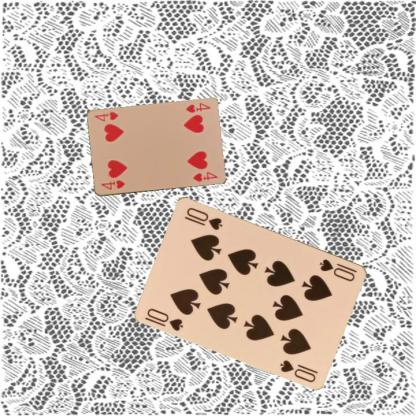10s: (144, 305, 185, 332), (316, 256, 358, 282)
4h: (182, 101, 212, 115), (98, 178, 126, 192)
